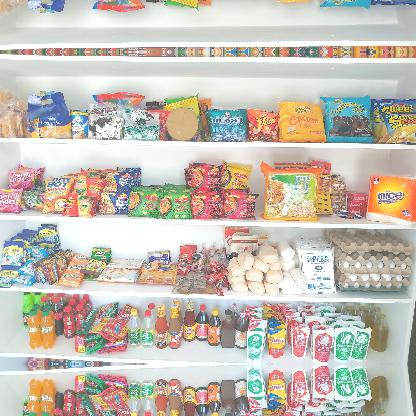Lady-s-Choice: (166, 107, 198, 141)
